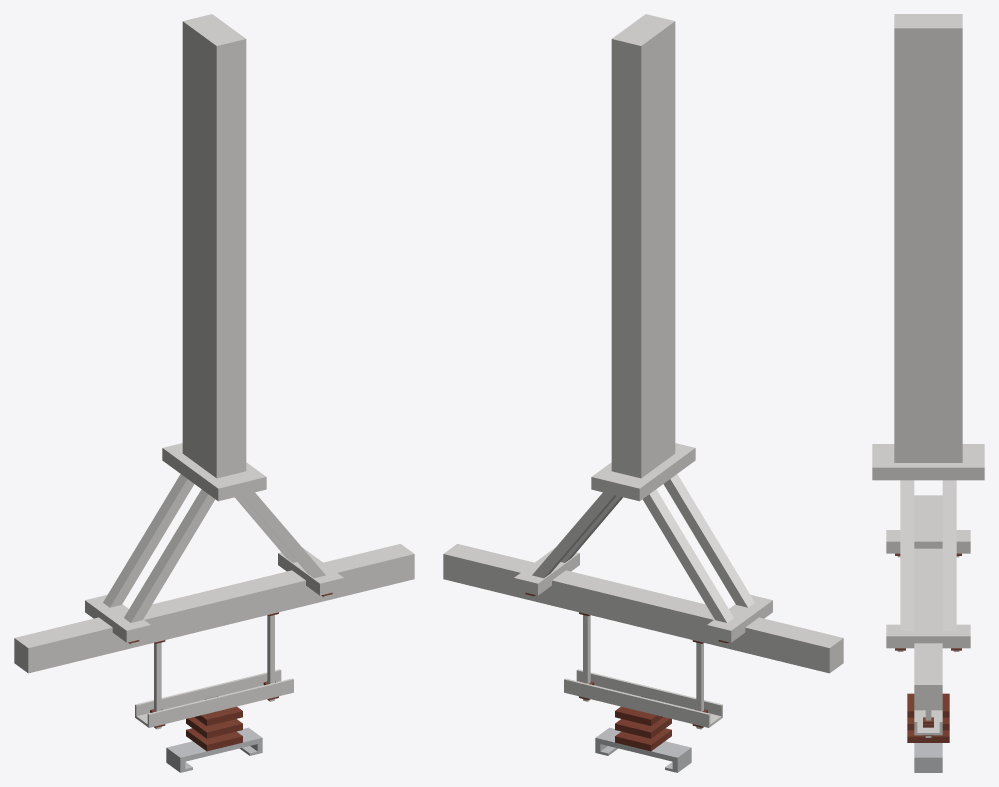
The model's file is catenary_rigid_node.obj.
3 renders of one model, left to right at view 1: azimuth 30°, elevation 25°; view 2: azimuth 150°, elevation 25°; view 3: azimuth 270°, elevation 25°, orthographic.
Visible parts, largest first — view 1: rigid_catenary_node.002; view 2: rigid_catenary_node.002; view 3: rigid_catenary_node.002.
Boxes of the visible parts, bbox=[...] form: rigid_catenary_node.002: bbox=[14, 14, 414, 772]; rigid_catenary_node.002: bbox=[443, 14, 843, 772]; rigid_catenary_node.002: bbox=[872, 14, 984, 772].
Size of the model in its own units: 1 by 1.8 by 0.25.
Materials: 1 (1 with a texture image).
